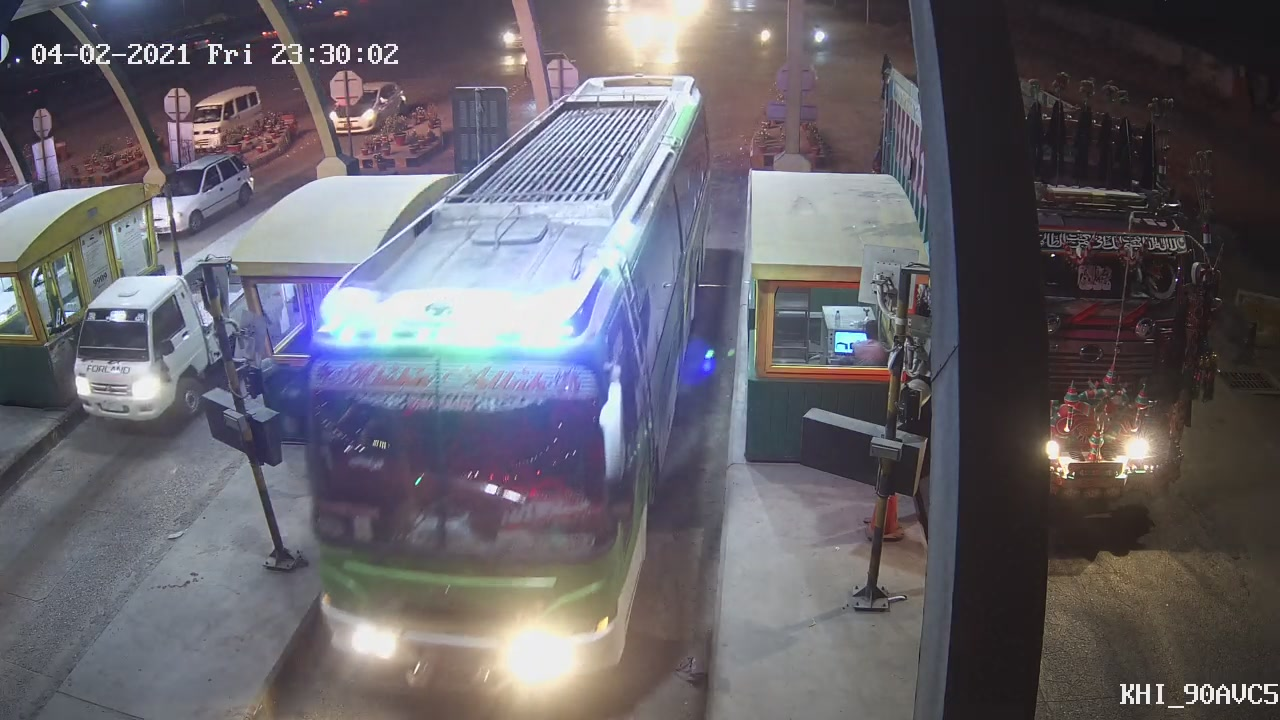F4: (283, 72, 719, 697)
